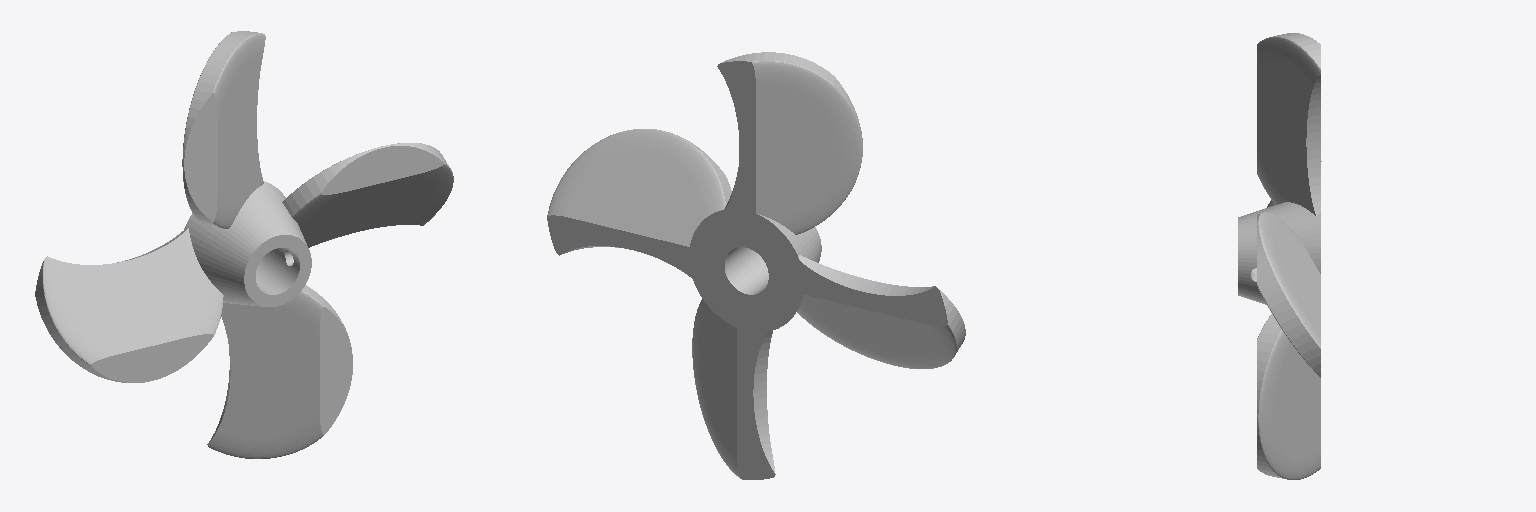
The model's file is propellershape3.obj.
The picture shows the model from 3 angles: view 1: azimuth 30°, elevation 25°; view 2: azimuth 150°, elevation 25°; view 3: azimuth 270°, elevation 25°; orthographic projection.
Parts seen in each view (by area): view 1: obj_0; view 2: obj_0; view 3: obj_0.
Boxes of the visible parts, x1,y1,x2,y2 form: obj_0: [35, 31, 453, 458]; obj_0: [547, 52, 965, 479]; obj_0: [1238, 33, 1321, 479].
Size of the model in its own units: 6.35 by 6.35 by 1.14.